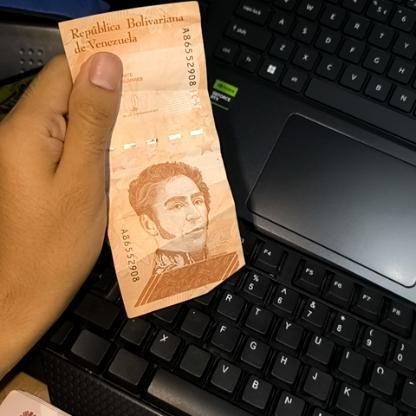twenty-front-vef: (56, 0, 245, 319)
